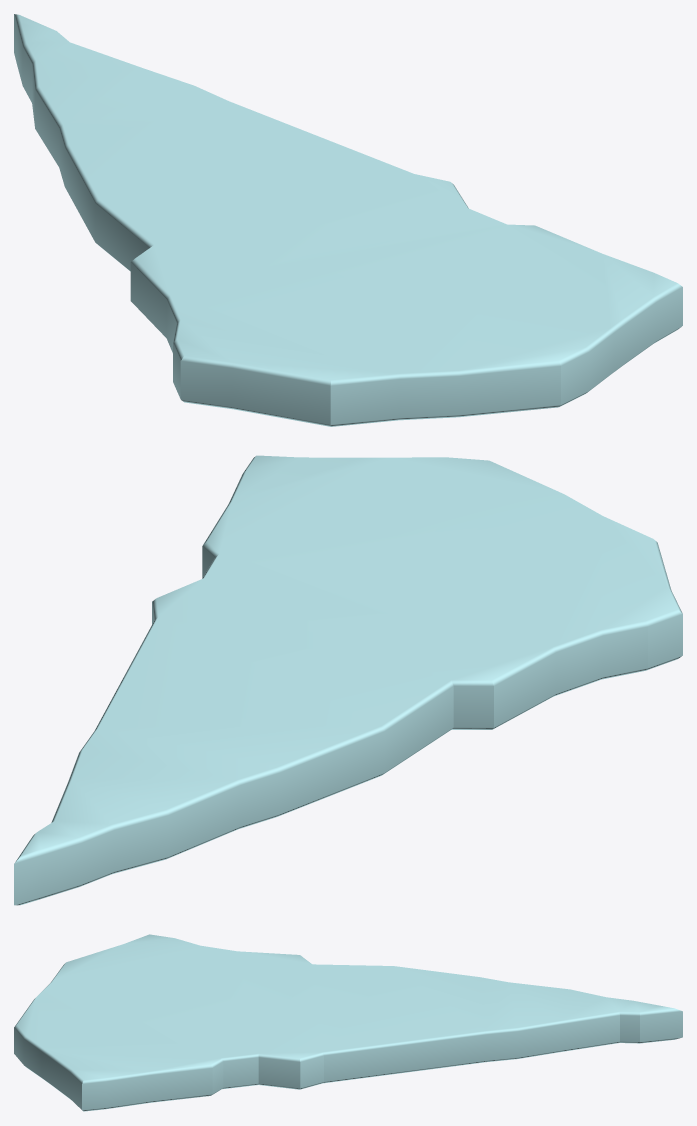
File: ice_floe_large_002.fbx
The picture shows the model from 3 angles, top to bottom: view 1: azimuth 30°, elevation 25°; view 2: azimuth 150°, elevation 25°; view 3: azimuth 270°, elevation 25°; orthographic projection. The views are drawn at different scales.
Parts seen in each view (by area): view 1: ice_floe_large_002; view 2: ice_floe_large_002; view 3: ice_floe_large_002.
Boxes of the visible parts, x1,y1,x2,y2 form: ice_floe_large_002: (14, 14, 682, 426); ice_floe_large_002: (14, 455, 682, 905); ice_floe_large_002: (14, 934, 682, 1111).
Bounding box in the file's own units: 1014 × 1931 × 100.
